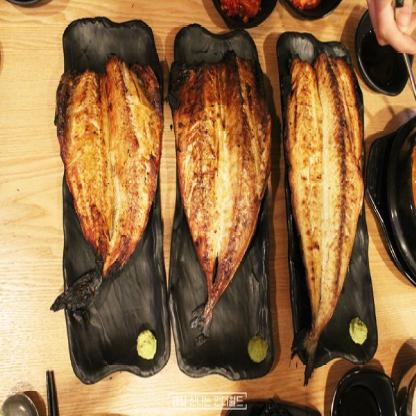Peixe: (280, 34, 372, 362), (170, 34, 275, 314), (53, 44, 167, 289)
